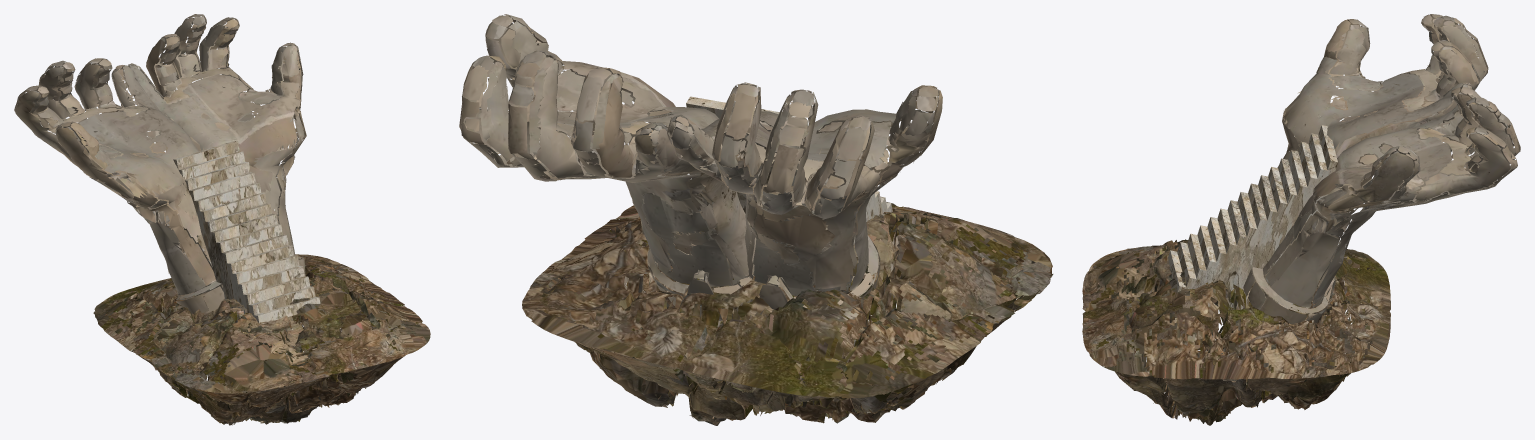
The model's file is bigstone.glb.
3 views of the same model, side by side, from view 1: azimuth 30°, elevation 25°; view 2: azimuth 150°, elevation 25°; view 3: azimuth 270°, elevation 25° (orthographic). The views are drawn at different scales.
Parts seen in each view (by area): view 1: Island.006; view 2: Island.006; view 3: Island.006.
Part boxes in pixels (x1,y1,x2,y2): Island.006: (14,14,430,425); Island.006: (459,14,1053,425); Island.006: (1082,14,1520,425).
Size of the model in its own units: 2.22 by 2.35 by 2.77.
3 materials, 3 textured.
